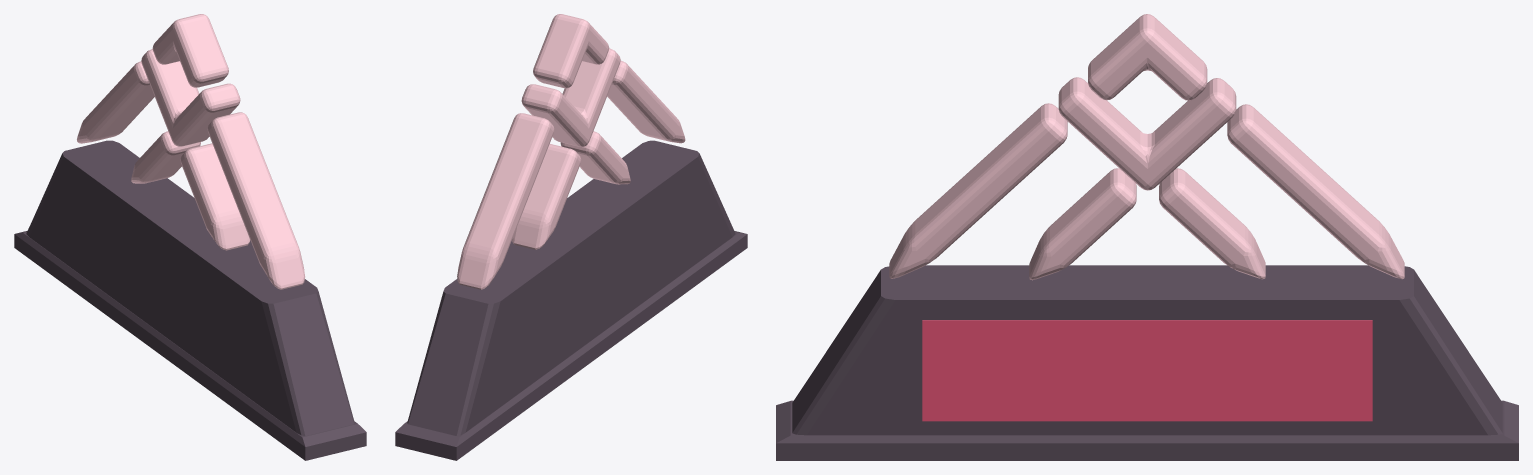
File: trophyblend.glb
The picture shows the model from 3 angles, left to right: view 1: azimuth 30°, elevation 25°; view 2: azimuth 150°, elevation 25°; view 3: azimuth 270°, elevation 25°; orthographic projection. The views are drawn at different scales.
Parts seen in each view (by area): view 1: basefine, logo; view 2: basefine, logo; view 3: basefine, stele, logo.
Boxes of the visible parts, <box> form: basefine: <box>14,140,366,460</box>; logo: <box>77,14,305,289</box>; basefine: <box>395,140,747,460</box>; logo: <box>457,14,685,289</box>; basefine: <box>776,265,1518,460</box>; stele: <box>922,320,1372,421</box>; logo: <box>889,14,1404,280</box>.
Bounding box in the file's own units: 0.5281 × 2.71 × 4.35.
